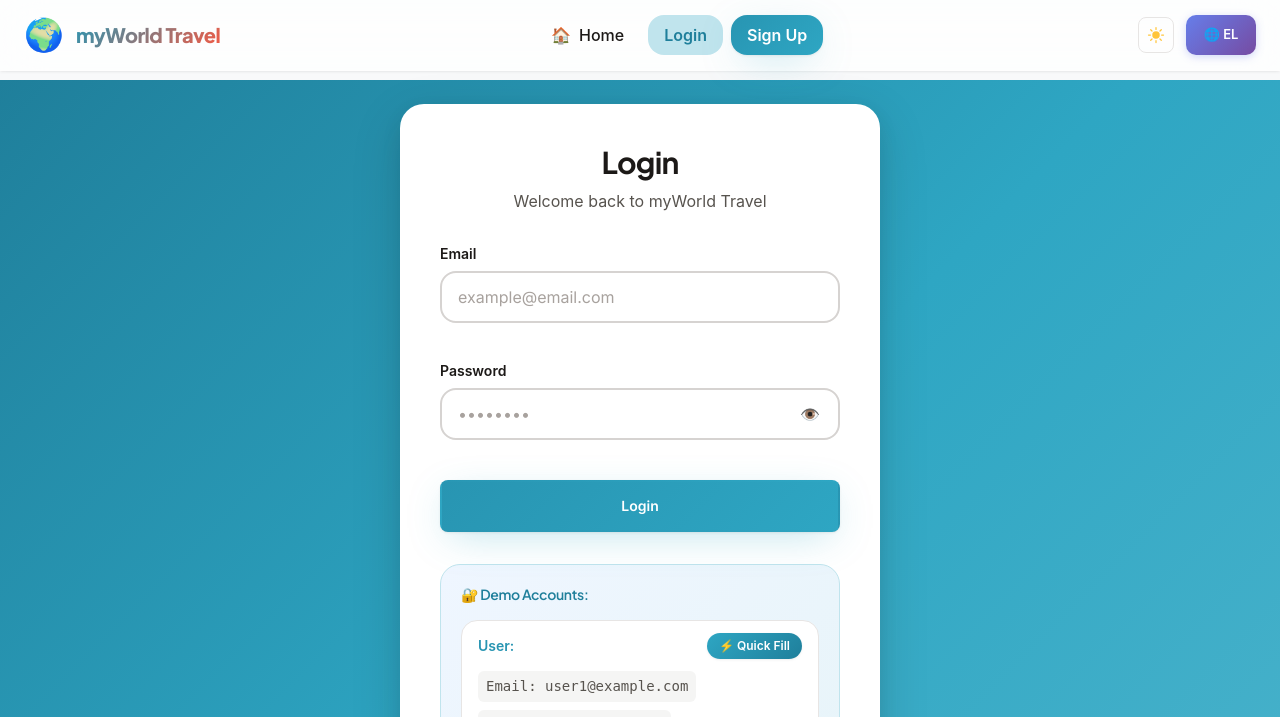
Test: Authentication Validation Errors › Login Authentication Errors › should show required field errors for empty form submission
Click the button with test id "btn-submit" at (640, 506), box [440,480,840,532]
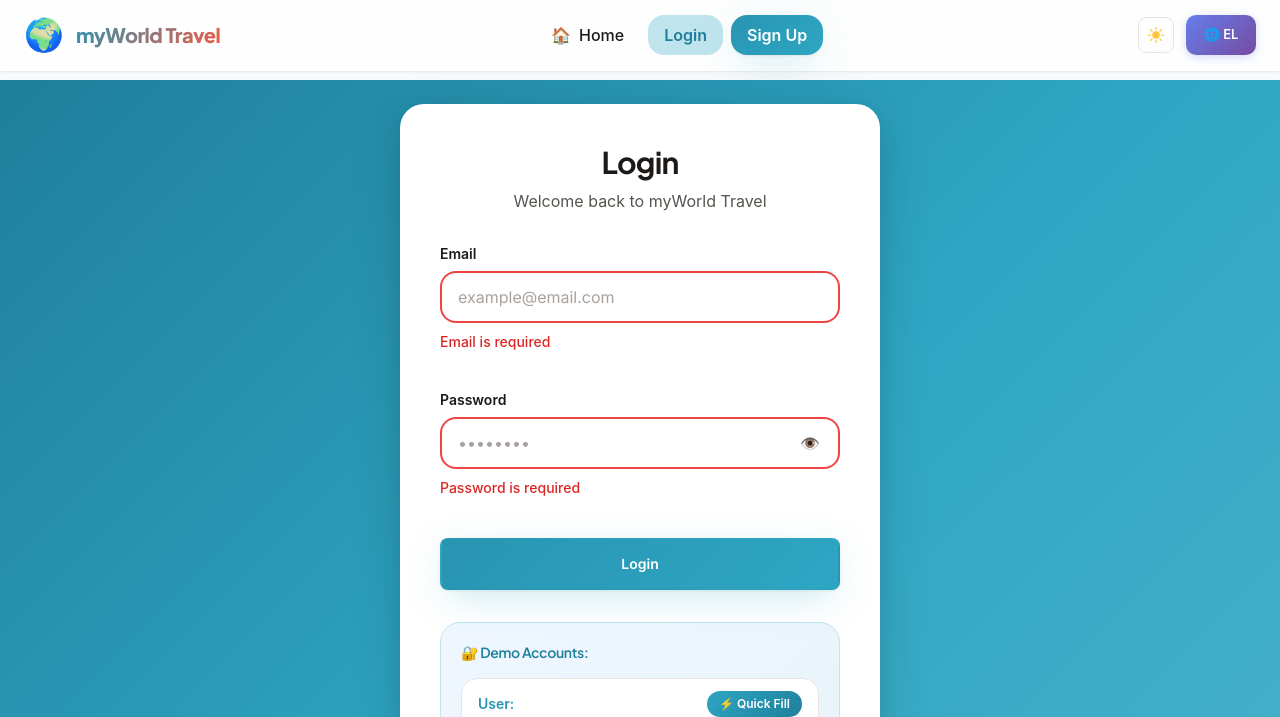
Expected: the text with test id "email" reads "Email is required", [440,333,550,350]
Expected: the text with test id "password" reads "Password is required", [440,479,580,496]
